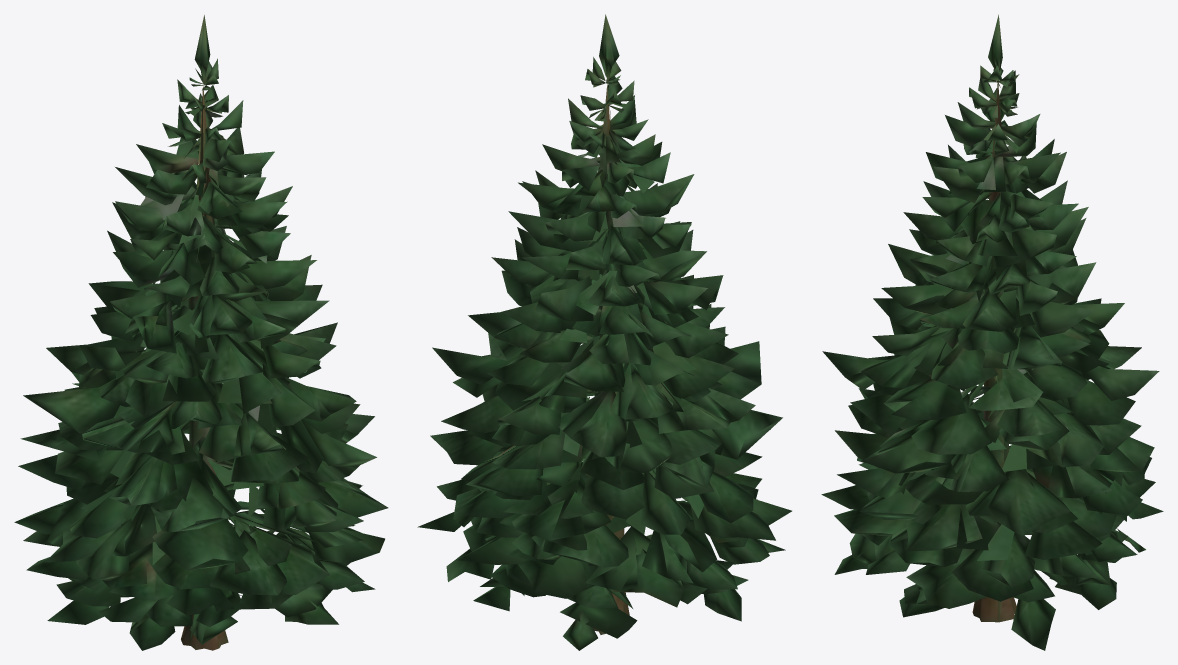
The model's file is pine_tree.glb.
The picture shows the model from 3 angles, left to right: view 1: azimuth 30°, elevation 25°; view 2: azimuth 150°, elevation 25°; view 3: azimuth 270°, elevation 25°; orthographic projection. The views are drawn at different scales.
Size of the model in its own units: 0.5322 by 0.9512 by 0.4917.
Materials: 1 (1 with a texture image).
